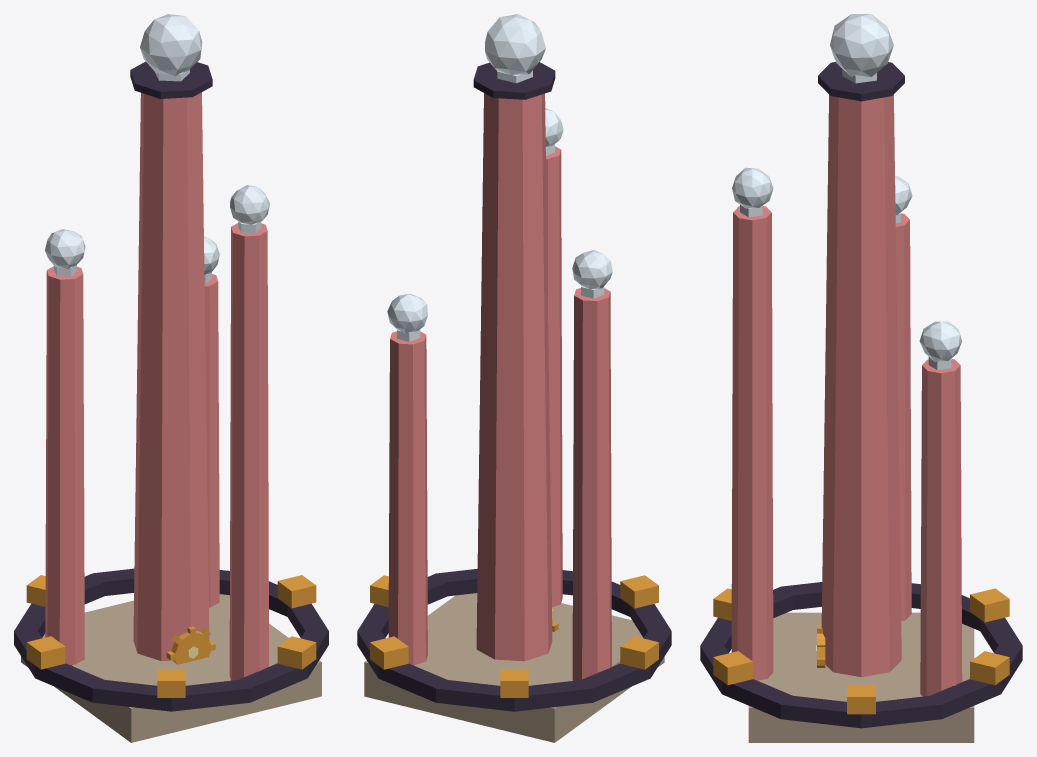
File: factory-g3.glb
The picture shows the model from 3 angles, left to right: view 1: azimuth 30°, elevation 25°; view 2: azimuth 150°, elevation 25°; view 3: azimuth 270°, elevation 25°; orthographic projection. The views are drawn at different scales.
Parts seen in each view (by area): view 1: factory-g3; view 2: factory-g3; view 3: factory-g3.
Boxes of the visible parts, x1=… form: factory-g3: x1=14, y1=14, x2=328, y2=742; factory-g3: x1=357, y1=14, x2=671, y2=742; factory-g3: x1=700, y1=14, x2=1022, y2=742.
Bounding box in the file's own units: 2.02 × 4.65 × 2.
